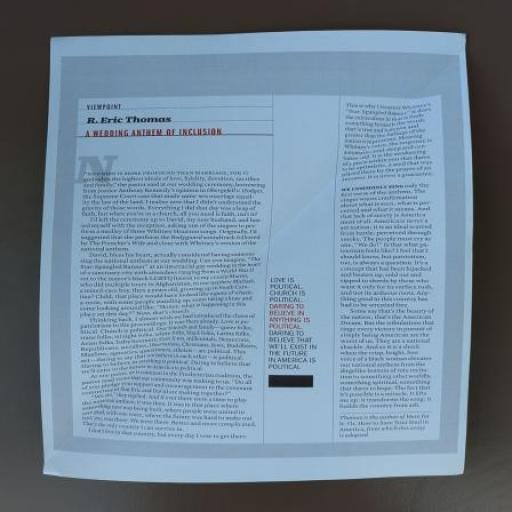paper: (62, 46, 473, 488)
